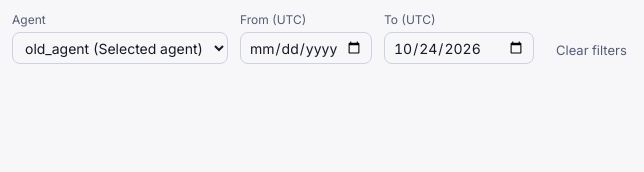
it: ToolDenialsFilters › keeps an unknown agent from the URL and clears every filter
Expected: the dropdown labelled "Agent" shows "old_agent (Selected agent)", [12,32,228,64]
What coordinates should you click on to do the following:
click the link "Clear filters"
I would click on:
 (591, 50)
Its box is [556,42,627,58].
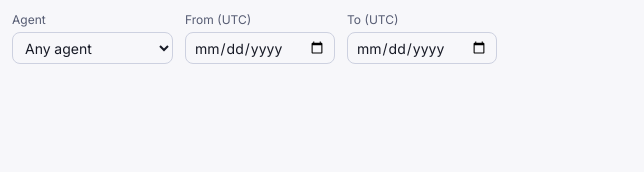
Expected: the date field labelled "To (UTC)" is empty, [347,32,497,64]
